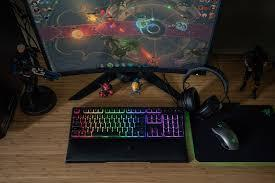keyboard: (67, 105, 189, 144)
